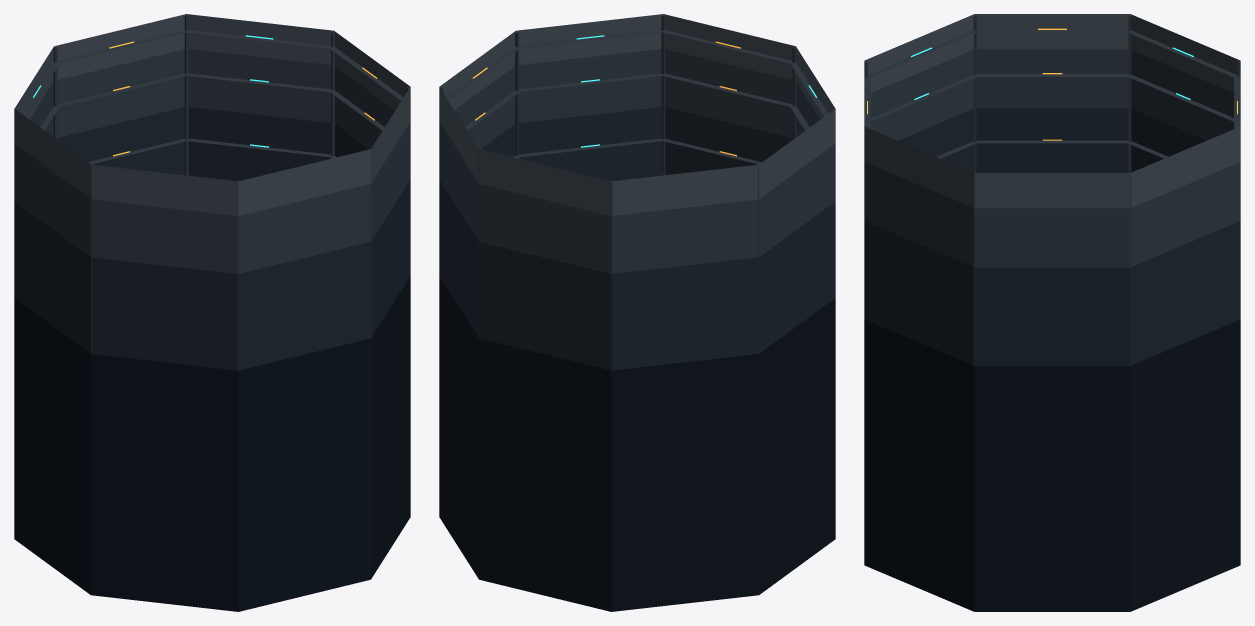
Rendered from arena-pit-v4.glb.
3 views of the same model, side by side, from view 1: azimuth 30°, elevation 25°; view 2: azimuth 150°, elevation 25°; view 3: azimuth 270°, elevation 25° (orthographic).
Visible parts, largest first — view 1: Static | Pit | wall depth 3, Static | Pit | wall depth 2, Static | Pit | wall depth 1, Static | Pit | wall depth 0, Static | Pit | structural ribs; view 2: Static | Pit | wall depth 3, Static | Pit | wall depth 2, Static | Pit | wall depth 1, Static | Pit | wall depth 0, Static | Pit | structural ribs; view 3: Static | Pit | wall depth 3, Static | Pit | wall depth 2, Static | Pit | wall depth 1, Static | Pit | wall depth 0, Static | Pit | structural ribs.
Boxes of the visible parts, left/top/right/bottom form: Static | Pit | wall depth 3: left=14, top=276, right=410, bottom=611; Static | Pit | wall depth 2: left=14, top=107, right=410, bottom=370; Static | Pit | wall depth 1: left=14, top=49, right=410, bottom=273; Static | Pit | wall depth 0: left=14, top=14, right=410, bottom=215; Static | Pit | structural ribs: left=15, top=15, right=410, bottom=370; Static | Pit | wall depth 3: left=439, top=276, right=835, bottom=611; Static | Pit | wall depth 2: left=439, top=107, right=835, bottom=370; Static | Pit | wall depth 1: left=439, top=49, right=835, bottom=273; Static | Pit | wall depth 0: left=439, top=14, right=835, bottom=215; Static | Pit | structural ribs: left=439, top=15, right=834, bottom=370; Static | Pit | wall depth 3: left=864, top=319, right=1240, bottom=611; Static | Pit | wall depth 2: left=864, top=108, right=1240, bottom=365; Static | Pit | wall depth 1: left=864, top=49, right=1240, bottom=267; Static | Pit | wall depth 0: left=864, top=14, right=1240, bottom=208; Static | Pit | structural ribs: left=864, top=15, right=1240, bottom=365.
Size of the model in its own units: 13.86 by 17.84 by 13.86.
